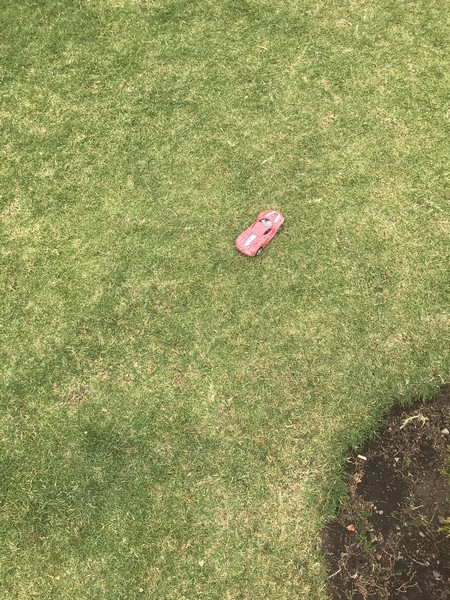RC: (233, 209, 286, 258)
